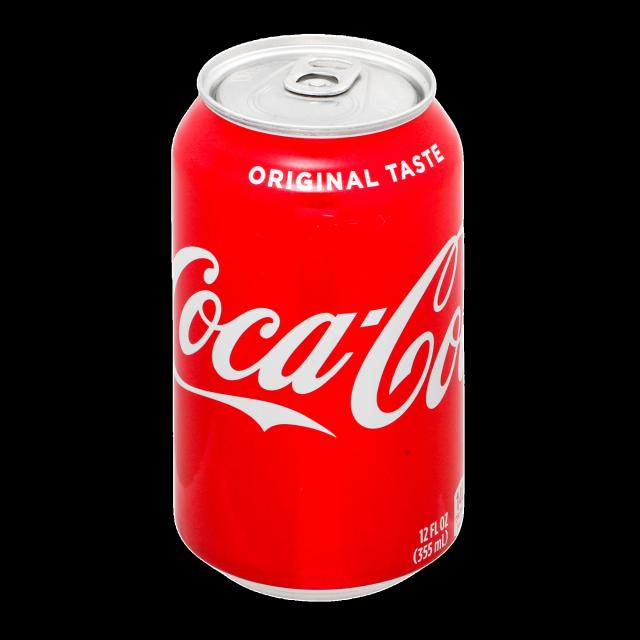cocacola: (148, 53, 486, 618)
